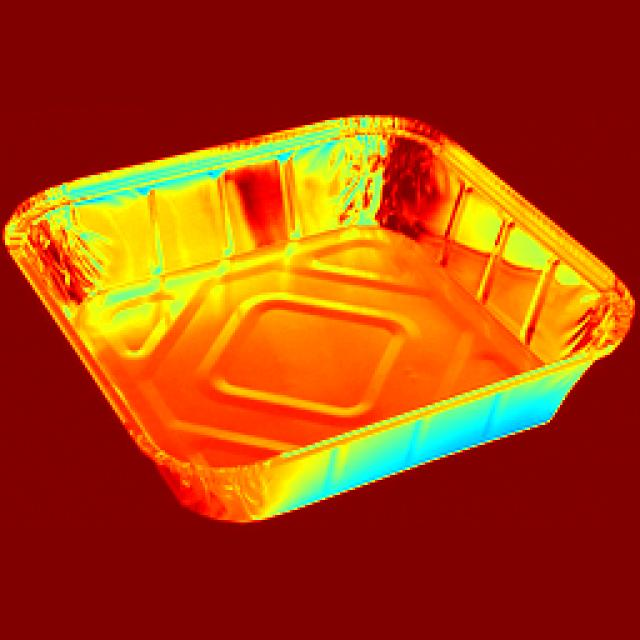Aluminium Food Cans: (12, 71, 626, 541)
